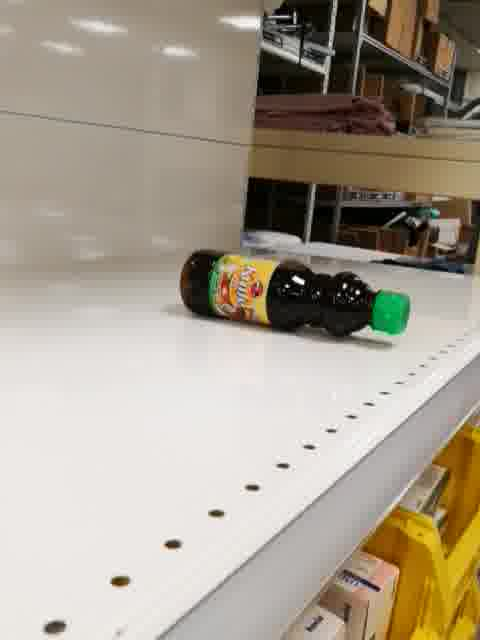cookingoil: (177, 246, 413, 340)
